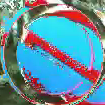No waiting: (11, 13, 95, 100)
